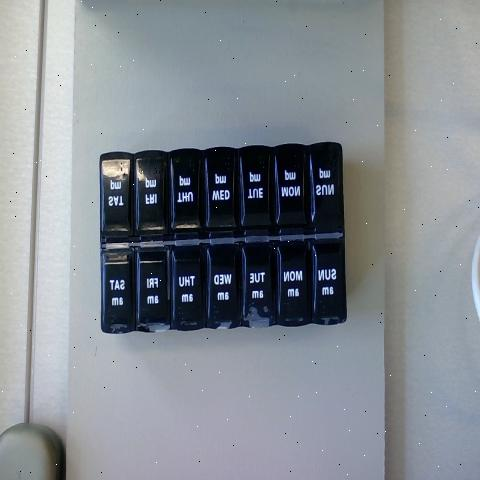FRI-am: (139, 251, 171, 330)
FRI-pm: (136, 157, 168, 230)
MON-am: (280, 247, 310, 327)
MON-pm: (275, 149, 309, 231)
PillBox: (80, 57, 358, 375)
SAT-am: (100, 250, 138, 333)
SAT-pm: (101, 158, 135, 232)
SUN-am: (312, 241, 344, 323)
SUN-pm: (310, 146, 343, 233)
THU-am: (172, 250, 207, 330)
THU-pm: (171, 153, 204, 232)
TUE-am: (243, 246, 277, 330)
TUE-pm: (242, 148, 271, 230)
WED-am: (209, 246, 242, 327)
WED-pm: (206, 153, 239, 233)
